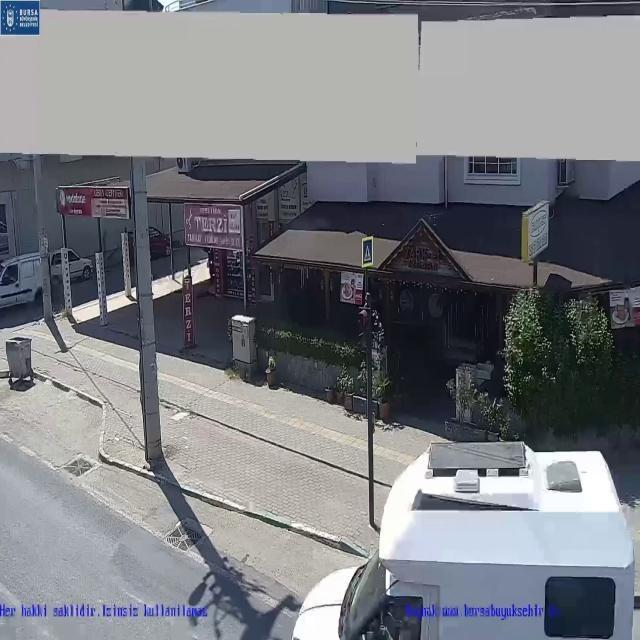Car: (68, 246, 94, 282), (150, 224, 170, 259)
Van: (293, 441, 638, 640), (0, 251, 42, 309)
